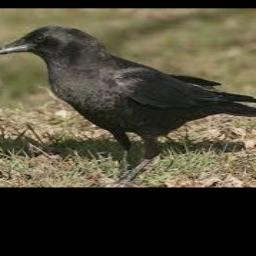Crow: (0, 24, 256, 187)
